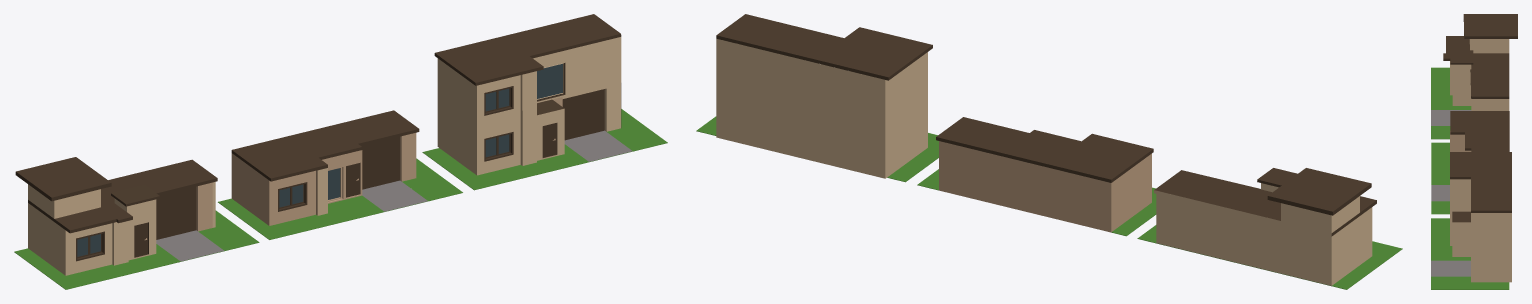
The model's file is bldg_houses.glb.
The picture shows the model from 3 angles, left to right: view 1: azimuth 30°, elevation 25°; view 2: azimuth 150°, elevation 25°; view 3: azimuth 270°, elevation 25°; orthographic projection. The views are drawn at different scales.
Visible parts, largest first — view 1: house-small-1-top-roof, house-medium-1-back-wall, house-medium-1-roof, house-small-2-roof, house-small-2, house-medium-1, house-medium-mesh, house-wall-2-window, house-medium-1-bottom-window, house-medium-1-top-window, house-small-1-left-wall, house-small-1-front-window (+17 smaller); view 2: house-medium-1-back-wall, house-small-2-back-wall, house-small-1-back-wall, house-small-1-top-roof, house-medium-1-roof, house-small-2-roof, house-small-1-left-wall, house-medium-mesh, house-medium-1, house-small-2, house-small-1-door-wall; view 3: house-small-1-top-roof, house-medium-1-roof, house-medium-1-back-wall, house-medium-1, house-small-2-roof, house-medium-mesh, house-small-2, house-small-1-door-wall, house-medium-1-door, house-medium-1-relief-1, house-small-1-back-wall, house-small-2-relief-1 (+1 smaller).
Part boxes in pixels (x1=…): house-small-1-top-roof: x1=15, y1=157, x2=217, y2=233; house-medium-1-back-wall: x1=437, y1=37, x2=621, y2=175; house-medium-1-roof: x1=434, y1=14, x2=621, y2=85; house-small-2-roof: x1=231, y1=110, x2=419, y2=181; house-small-2: x1=218, y1=158, x2=462, y2=239; house-medium-1: x1=422, y1=109, x2=667, y2=190; house-medium-mesh: x1=14, y1=210, x2=259, y2=289; house-wall-2-window: x1=269, y1=170, x2=315, y2=225; house-medium-1-bottom-window: x1=477, y1=119, x2=520, y2=175; house-medium-1-top-window: x1=477, y1=75, x2=520, y2=129; house-small-1-left-wall: x1=28, y1=203, x2=68, y2=275; house-small-1-front-window: x1=68, y1=223, x2=112, y2=274; house-medium-1-back-wall: x1=716, y1=38, x2=927, y2=178; house-small-2-back-wall: x1=939, y1=141, x2=1151, y2=232; house-small-1-back-wall: x1=1156, y1=194, x2=1331, y2=285; house-small-1-top-roof: x1=1154, y1=168, x2=1376, y2=236; house-medium-1-roof: x1=716, y1=14, x2=932, y2=80; house-small-2-roof: x1=936, y1=117, x2=1153, y2=182; house-small-1-left-wall: x1=1328, y1=207, x2=1372, y2=285; house-medium-mesh: x1=1137, y1=225, x2=1402, y2=289; house-medium-1: x1=696, y1=116, x2=938, y2=182; house-small-2: x1=917, y1=169, x2=1156, y2=236; house-small-1-door-wall: x1=1257, y1=168, x2=1297, y2=192; house-small-1-top-roof: x1=1443, y1=14, x2=1517, y2=98; house-medium-1-roof: x1=1450, y1=152, x2=1511, y2=212; house-medium-1-back-wall: x1=1471, y1=213, x2=1511, y2=282; house-medium-1: x1=1431, y1=218, x2=1509, y2=289; house-small-2-roof: x1=1450, y1=111, x2=1509, y2=151; house-medium-mesh: x1=1431, y1=67, x2=1471, y2=139; house-small-2: x1=1431, y1=142, x2=1449, y2=214; house-small-1-door-wall: x1=1450, y1=50, x2=1473, y2=105; house-medium-1-door: x1=1452, y1=211, x2=1470, y2=256; house-medium-1-relief-1: x1=1450, y1=179, x2=1470, y2=245; house-small-1-back-wall: x1=1471, y1=99, x2=1509, y2=110; house-small-2-relief-1: x1=1450, y1=131, x2=1464, y2=151.
Bounding box in the file's own units: 41.2 × 6.21 × 6.8.
